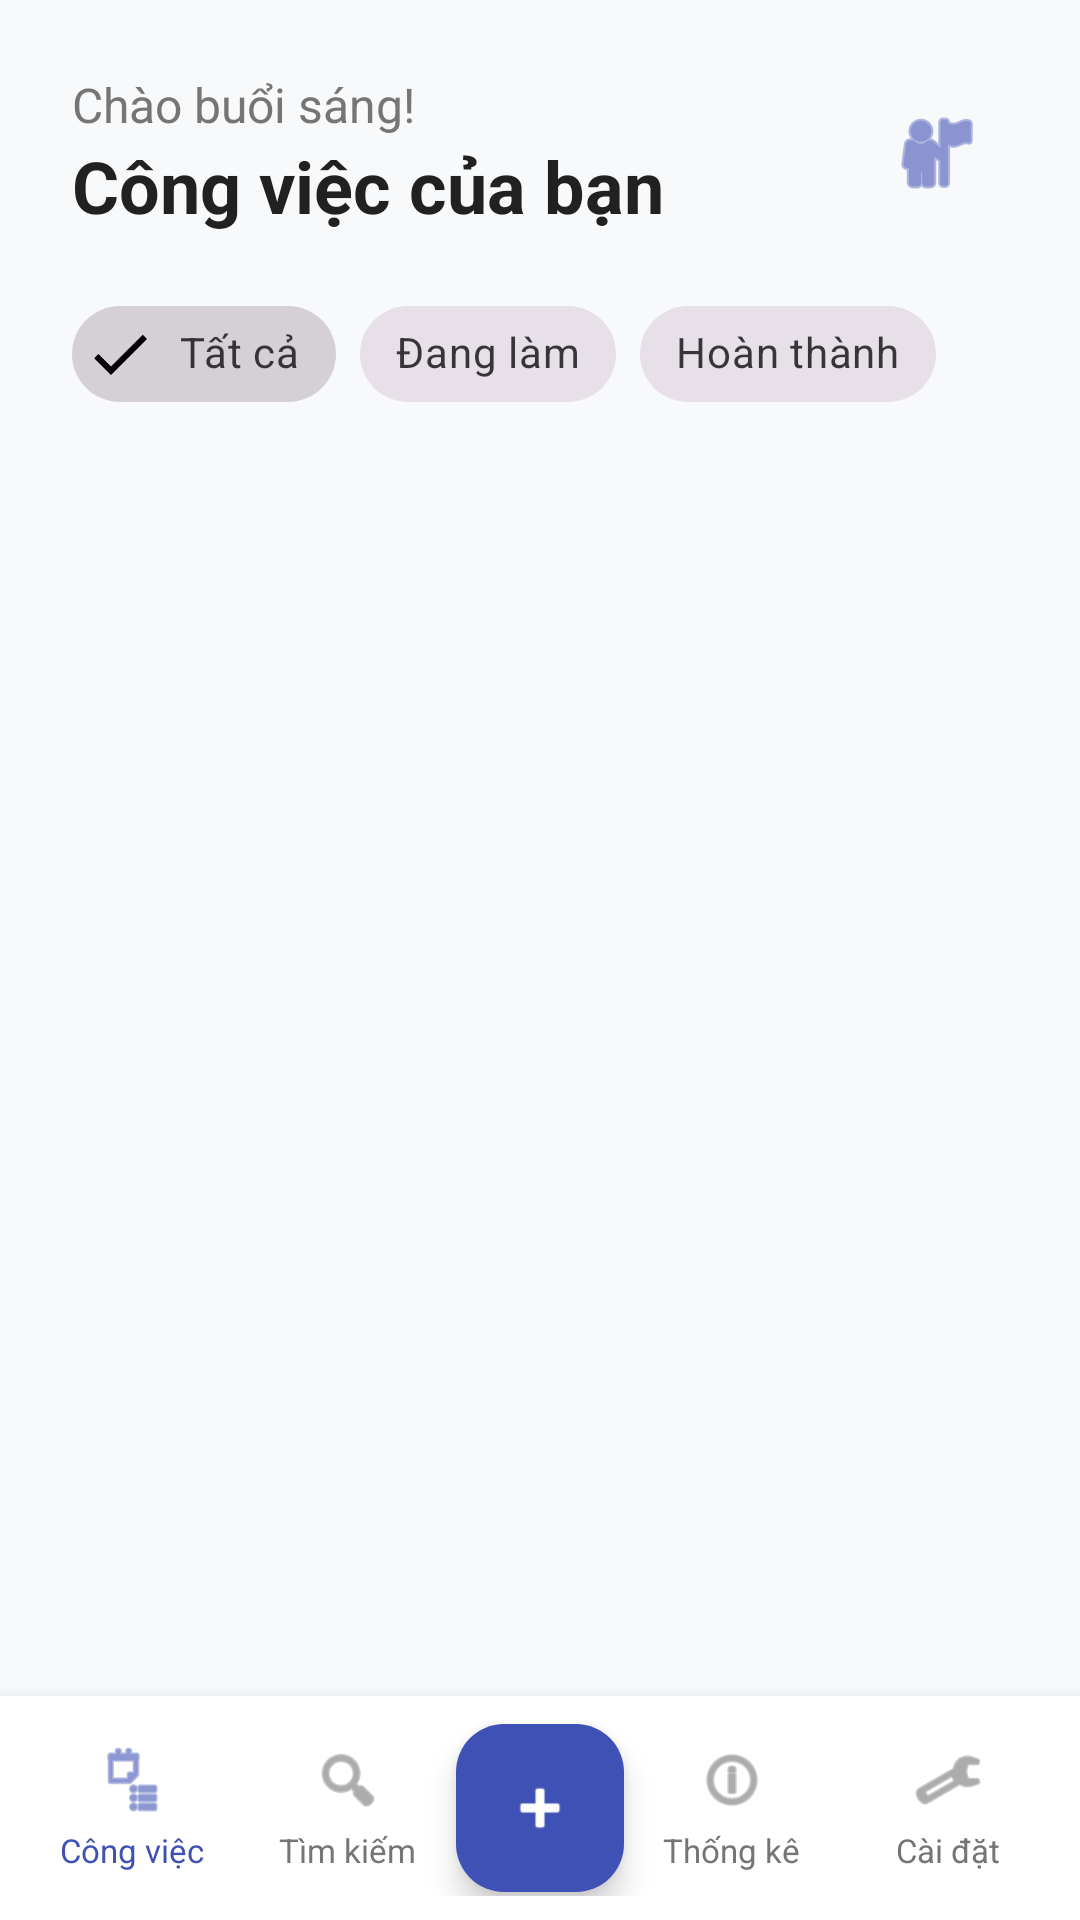

Point at icon controls on the screen. Image size 1080w x 1920h, points as [x,y].
info details: [732,1780]
Thêm công việc: [540,1808]
